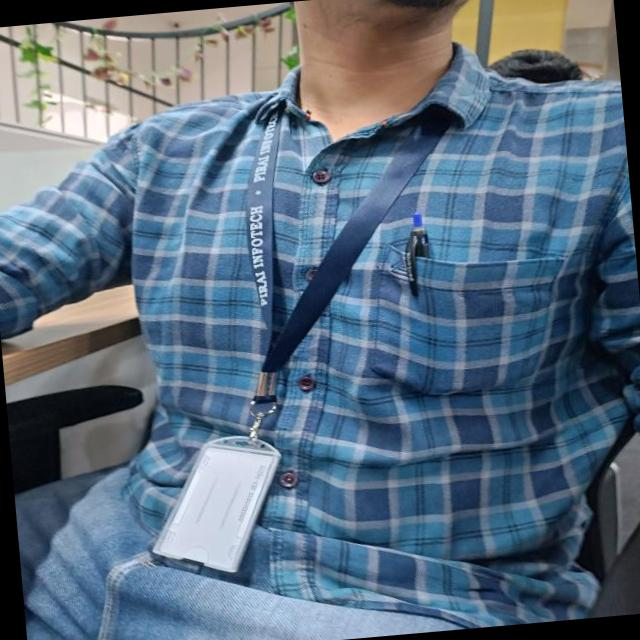id_card: (120, 69, 485, 578)
